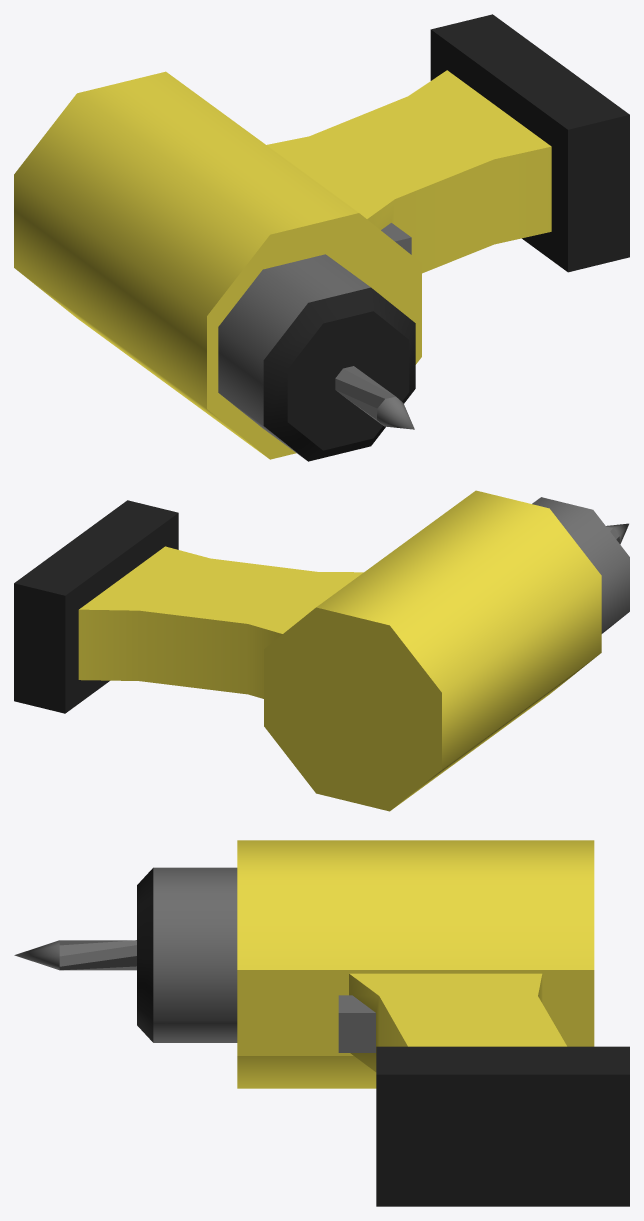
Rendered from Asset_Drill.fbx.
The picture shows the model from 3 angles, top to bottom: view 1: azimuth 30°, elevation 25°; view 2: azimuth 150°, elevation 25°; view 3: azimuth 270°, elevation 25°; orthographic projection. The views are drawn at different scales.
Visible parts, largest first — view 1: Asset_Drill; view 2: Asset_Drill; view 3: Asset_Drill.
Boxes of the visible parts, x1,y1,x2,y2 form: Asset_Drill: (14, 14, 629, 461); Asset_Drill: (14, 490, 629, 811); Asset_Drill: (14, 840, 629, 1206).
Bounding box in the file's own units: 19.64 × 8.48 × 22.76.
